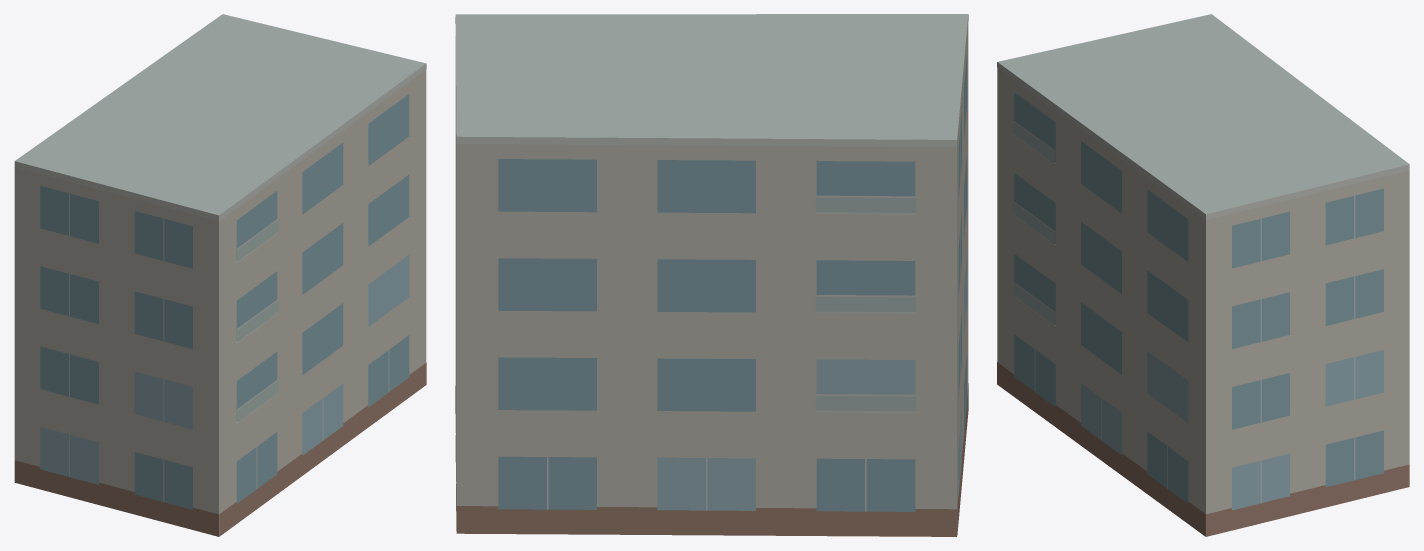
The model's file is survey-upis-32748930.glb.
3 renders of one model, left to right at view 1: azimuth 30°, elevation 25°; view 2: azimuth 150°, elevation 25°; view 3: azimuth 270°, elevation 25°, orthographic. The views are drawn at different scales.
Visible parts, largest first — view 1: survey-upis-32748930.tmp; view 2: survey-upis-32748930.tmp; view 3: survey-upis-32748930.tmp.
Part boxes in pixels (left/top/right/bottom): survey-upis-32748930.tmp: left=14, top=14, right=426, bottom=536; survey-upis-32748930.tmp: left=455, top=14, right=968, bottom=536; survey-upis-32748930.tmp: left=997, top=14, right=1409, bottom=536.
Size of the model in its own units: 17.58 by 13.2 by 15.3.
